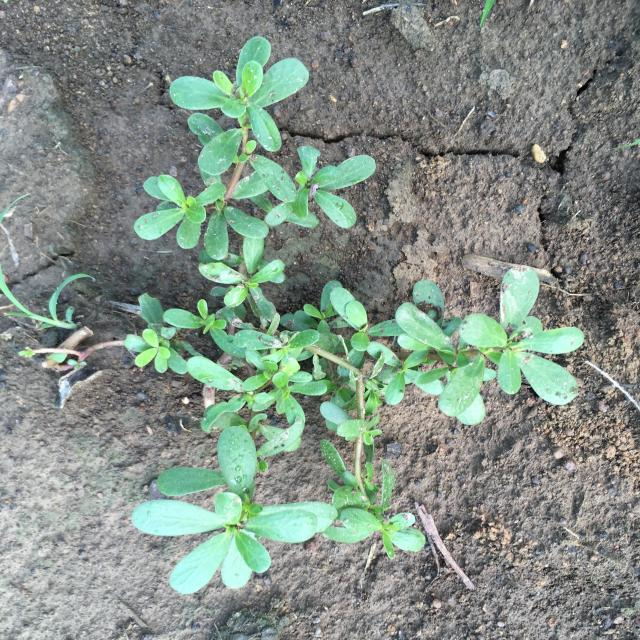Purslane: (124, 36, 584, 595)
